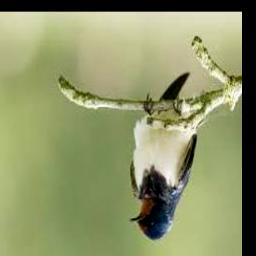Swallow: (128, 72, 196, 240)
